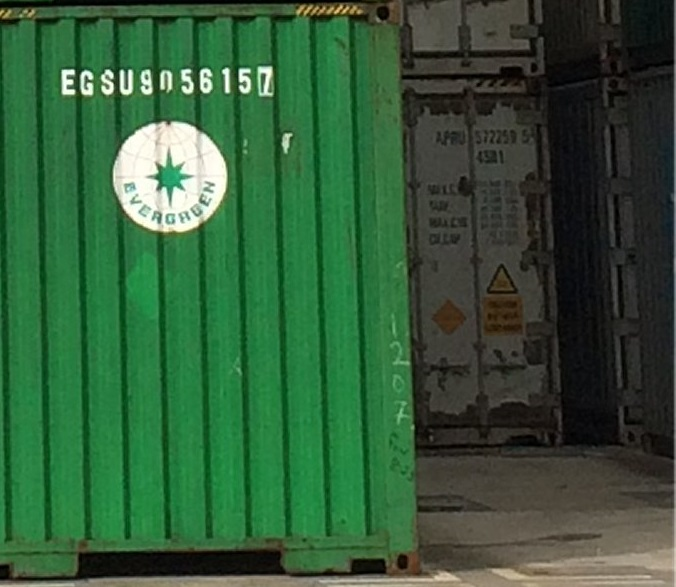container_door: (409, 71, 558, 448)
container_no_door: (1, 6, 424, 577)
